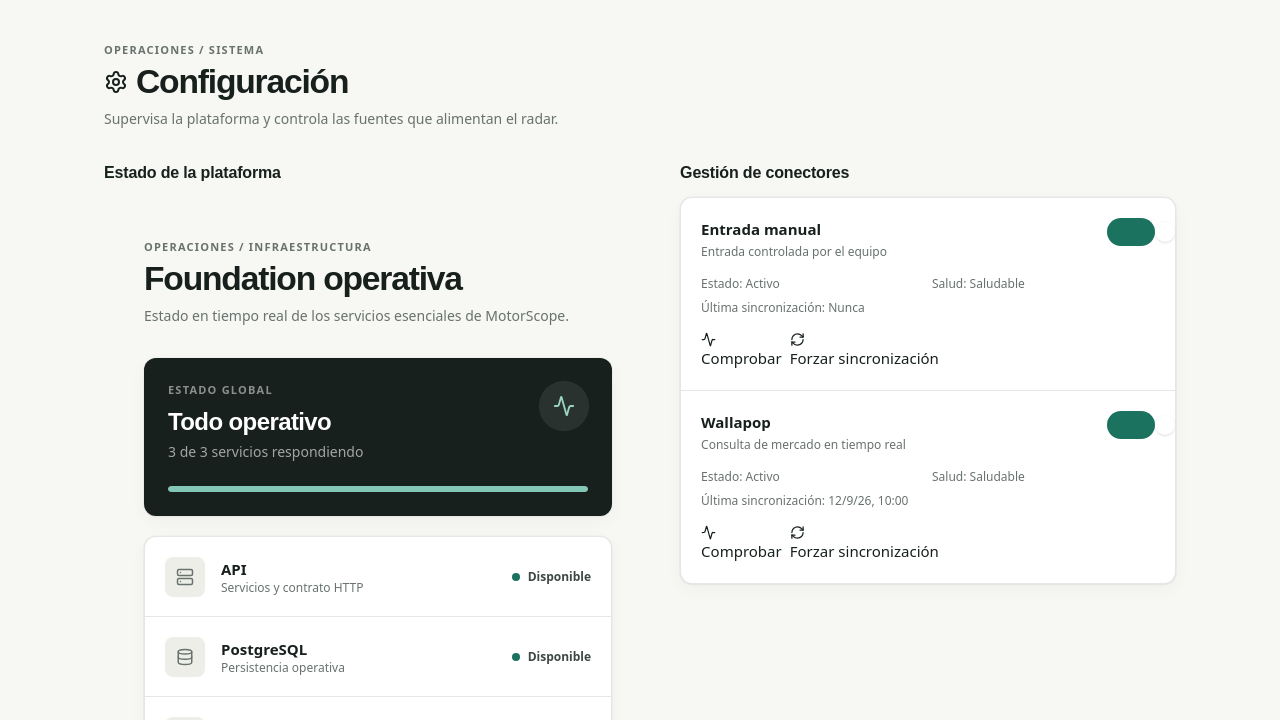
it: combines platform status and connector controls in settings
Expected: the heading "Configuración" is shown, x1=104 y1=63 x2=348 y2=100
Expected: the text "Todo operativo" is shown, x1=168 y1=408 x2=331 y2=435
Click the button with aria-label "Comprobar Wallapop". click: point(741, 544)
box: x1=701 y1=526 x2=782 y2=563
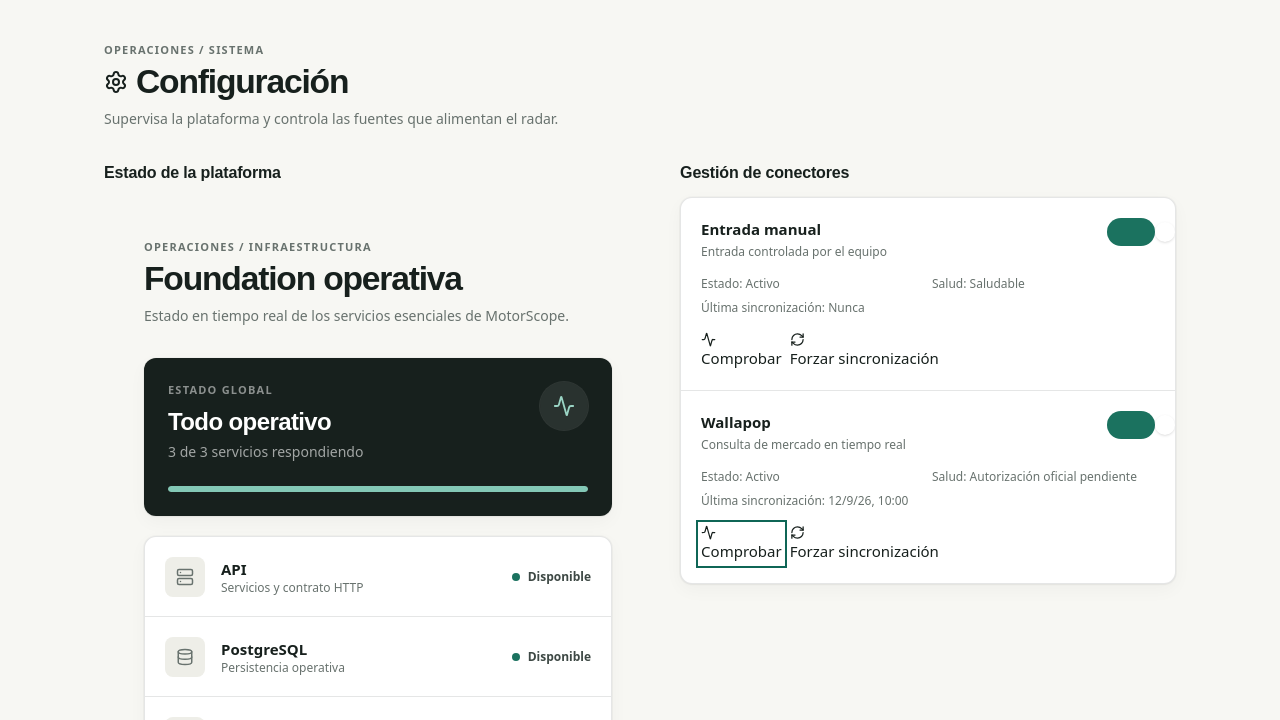
Now the text "Salud: Autorización oficial pendiente" is shown, box x1=932 y1=470 x2=1155 y2=486
